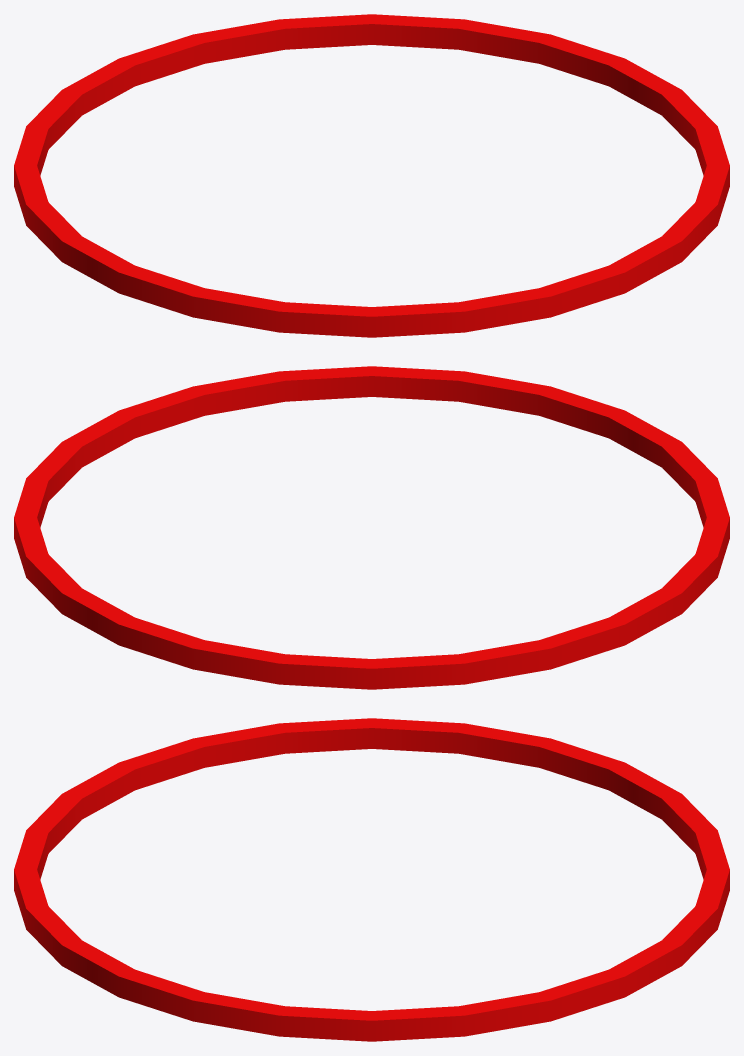
The model's file is red_gimbal.dae.
The picture shows the model from 3 angles, top to bottom: view 1: azimuth 30°, elevation 25°; view 2: azimuth 150°, elevation 25°; view 3: azimuth 270°, elevation 25°; orthographic projection.
Visible parts, largest first — view 1: SketchUp (×2); view 2: SketchUp (×2); view 3: SketchUp (×2).
Boxes of the visible parts, x1,y1,x2,y2 form: SketchUp (×2): (14,14,729,337); SketchUp (×2): (14,366,729,689); SketchUp (×2): (14,718,729,1041).
Bounding box in the file's own units: 244 × 244 × 7.87.
